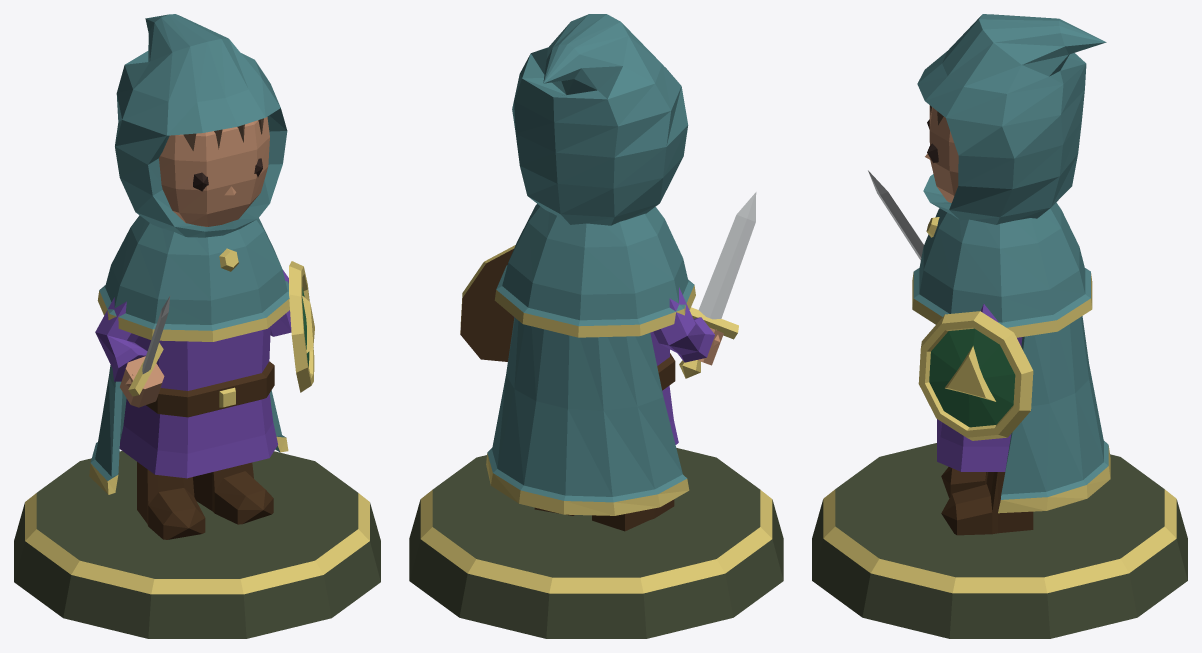
File: card-standee-9e8044.glb
The picture shows the model from 3 angles, left to right: view 1: azimuth 30°, elevation 25°; view 2: azimuth 150°, elevation 25°; view 3: azimuth 270°, elevation 25°; orthographic projection. The views are drawn at different scales.
Visible parts, largest first — view 1: figure, base, head, gold; view 2: figure, base, head, gold; view 3: base, figure, head, gold.
Boxes of the visible parts, x1,y1,x2,y2 form: figure: (90,215,309,539); base: (14,451,380,638); head: (115,14,287,237); gold: (25,248,369,594); figure: (460,204,723,531); base: (409,448,783,638); head: (512,14,688,225); gold: (420,192,772,593); base: (812,443,1187,638); figure: (913,202,1108,535); head: (917,14,1106,224); gold: (823,170,1176,593).
Size of the model in its own units: 0.025 by 0.0396 by 0.025.
